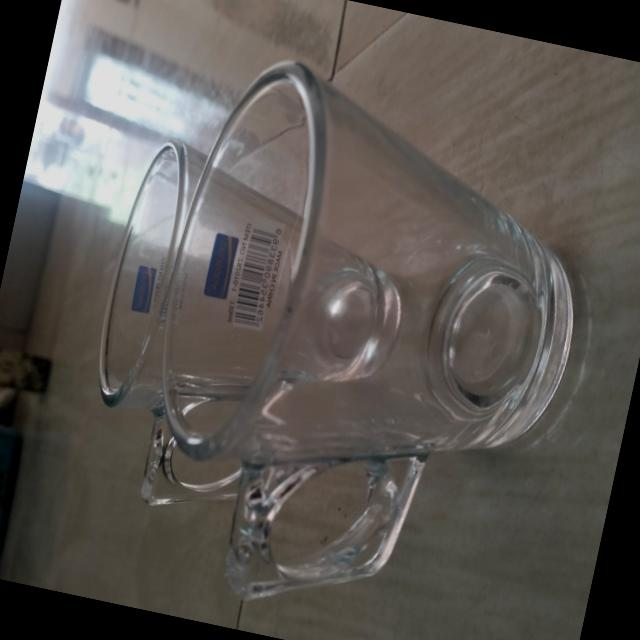glass-VX4N: (108, 41, 630, 640), (59, 123, 430, 548)
